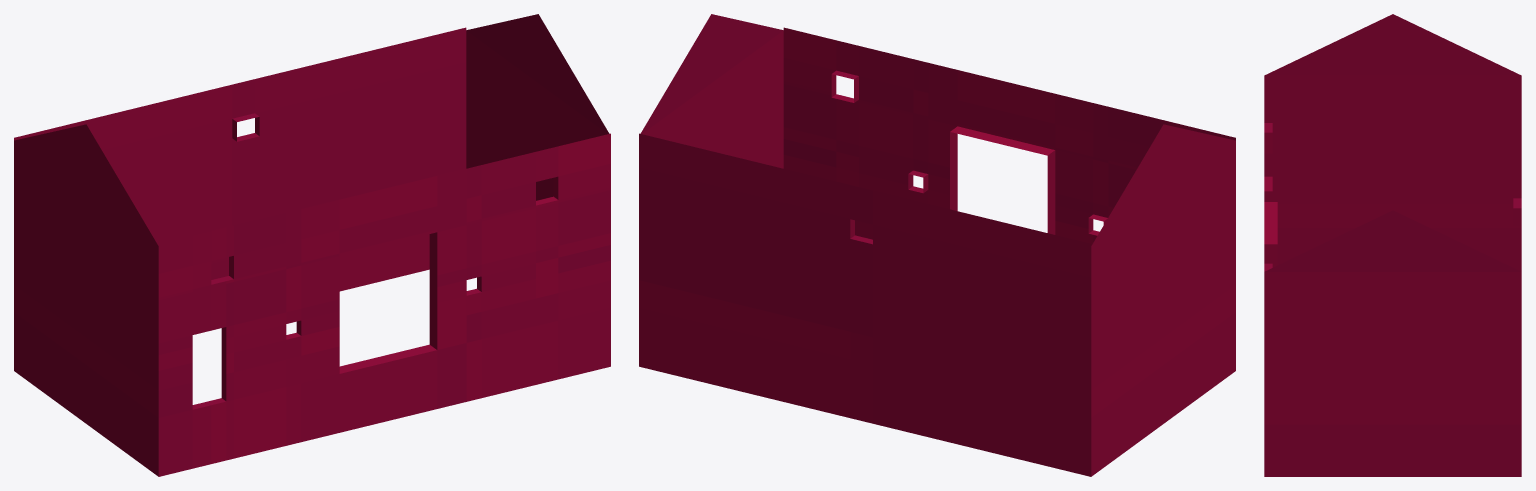
The model's file is SM_Bld_012_Masonry.glb.
3 views of the same model, side by side, from view 1: azimuth 30°, elevation 25°; view 2: azimuth 150°, elevation 25°; view 3: azimuth 270°, elevation 25° (orthographic). The views are drawn at different scales.
Visible parts, largest first — view 1: SM_Bld_012_Masonry; view 2: SM_Bld_012_Masonry; view 3: SM_Bld_012_Masonry.
Boxes of the visible parts, x1,y1,x2,y2 form: SM_Bld_012_Masonry: (14, 14, 610, 476); SM_Bld_012_Masonry: (639, 14, 1235, 476); SM_Bld_012_Masonry: (1264, 14, 1521, 476).
Bounding box in the file's own units: 12.05 × 7.63 × 6.68.
